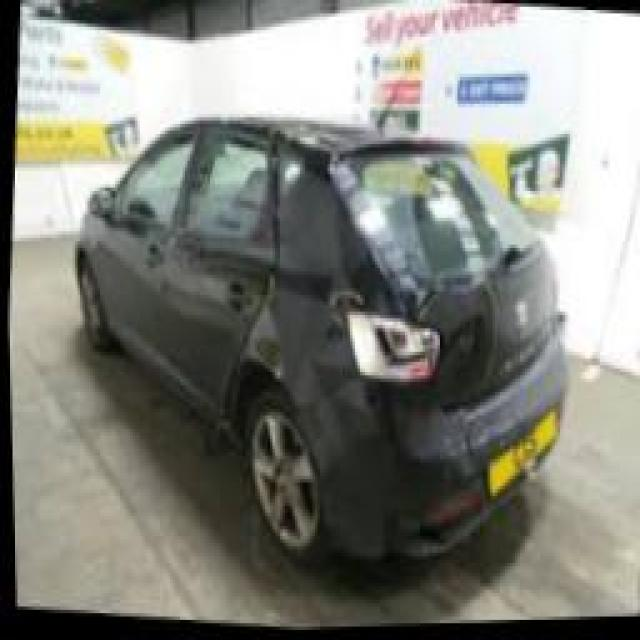Light: (320, 288, 445, 406)
